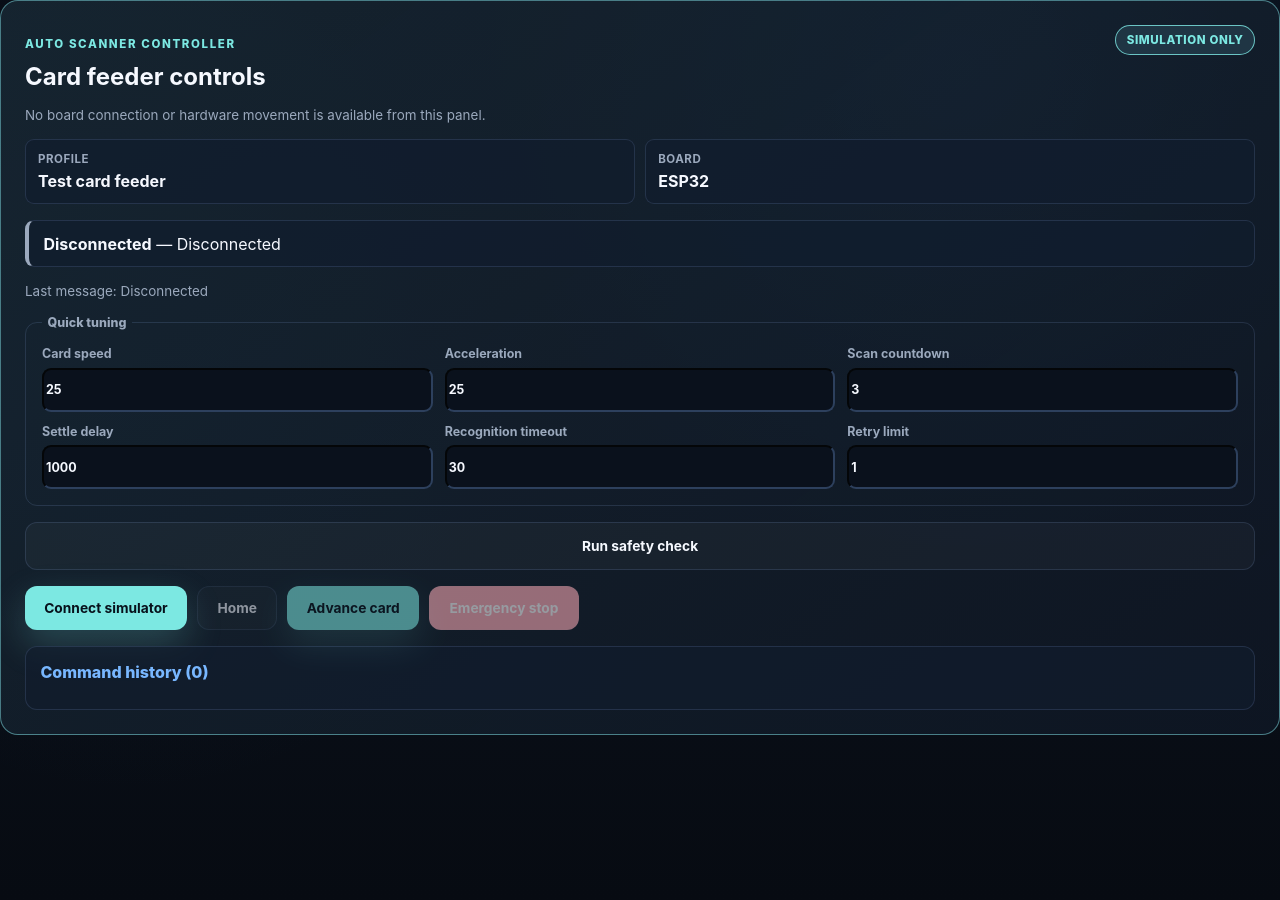
Test: runs a simulation-only safety check without moving the controller
Step 1. Click the button "Run safety check" → (640,546), box [25,522,1255,570]
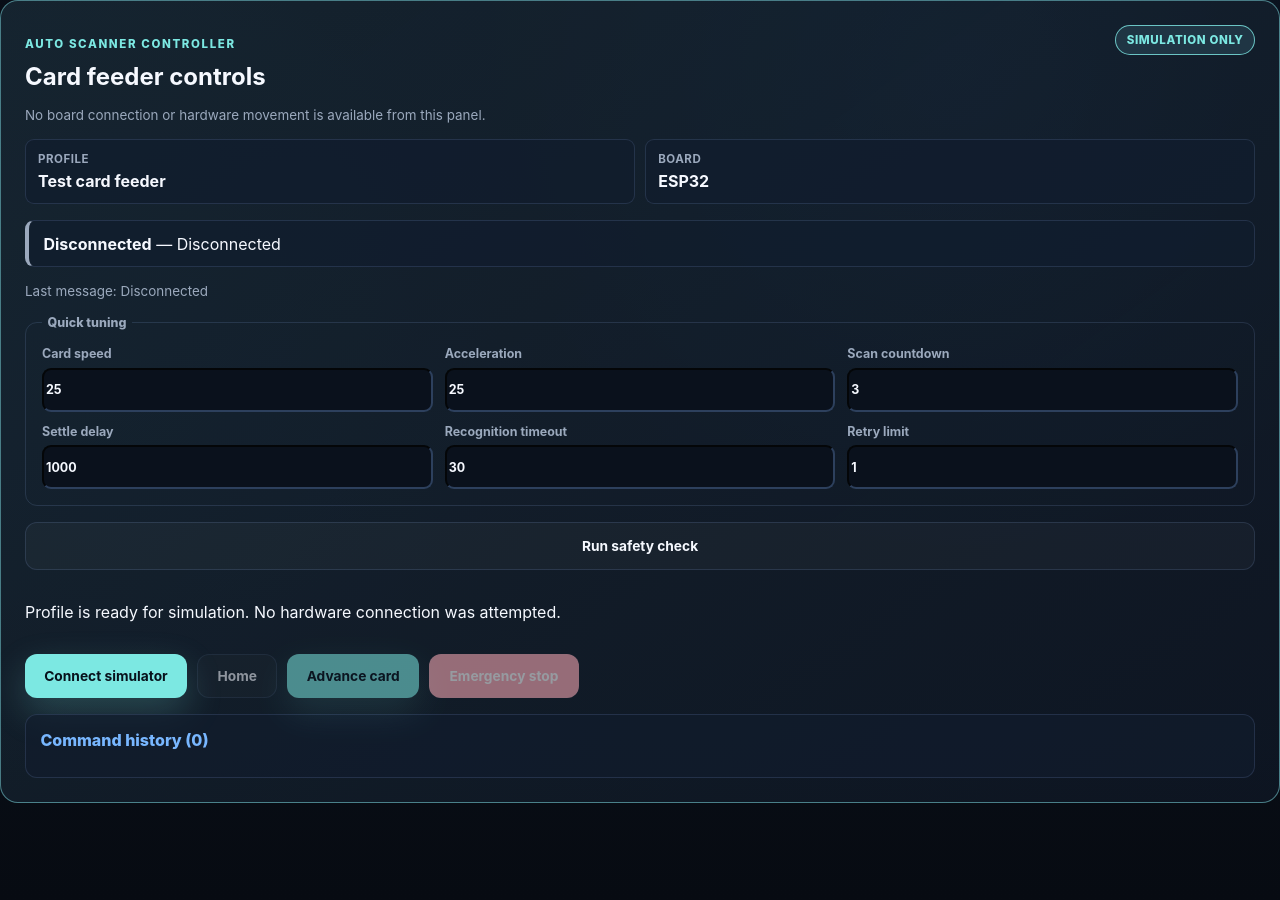
Expected: the message named "Controller status" shows "disconnected", [43,234,152,254]
Now the message named "Controller safety check" shows "Profile is ready for simulation", box [25,602,561,622]
